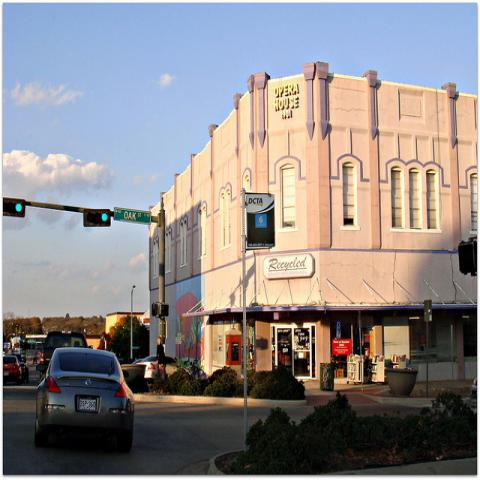car: (34, 347, 133, 452), (40, 330, 93, 379), (138, 354, 180, 378), (6, 352, 29, 383), (3, 356, 21, 384)
